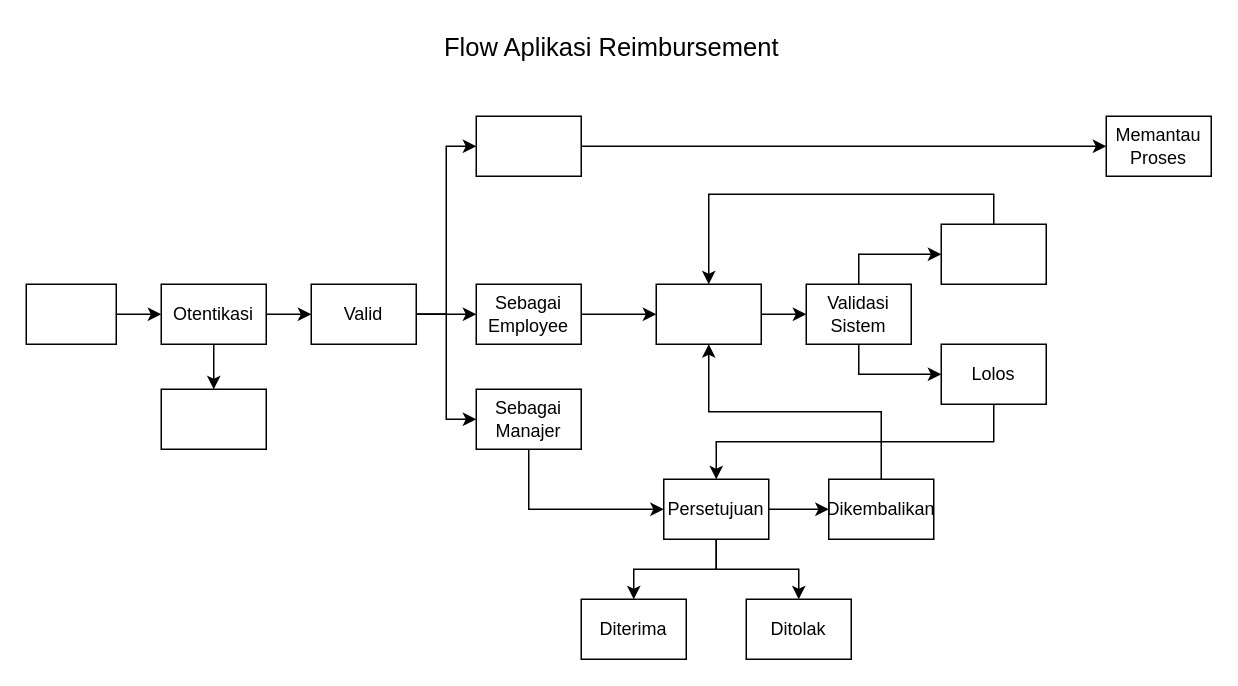
Some shapes in this 1238 by 686 pixel diagram are drawn without their labels. The centre of each missing label's shape, as x and y in pixels:
Buat/Revisi Pengajuan: (708,313)
Sebagai Admin: (528,145)
Tidak Lolos: (993,253)
Tidak Valid: (213,418)
User: (70,313)
